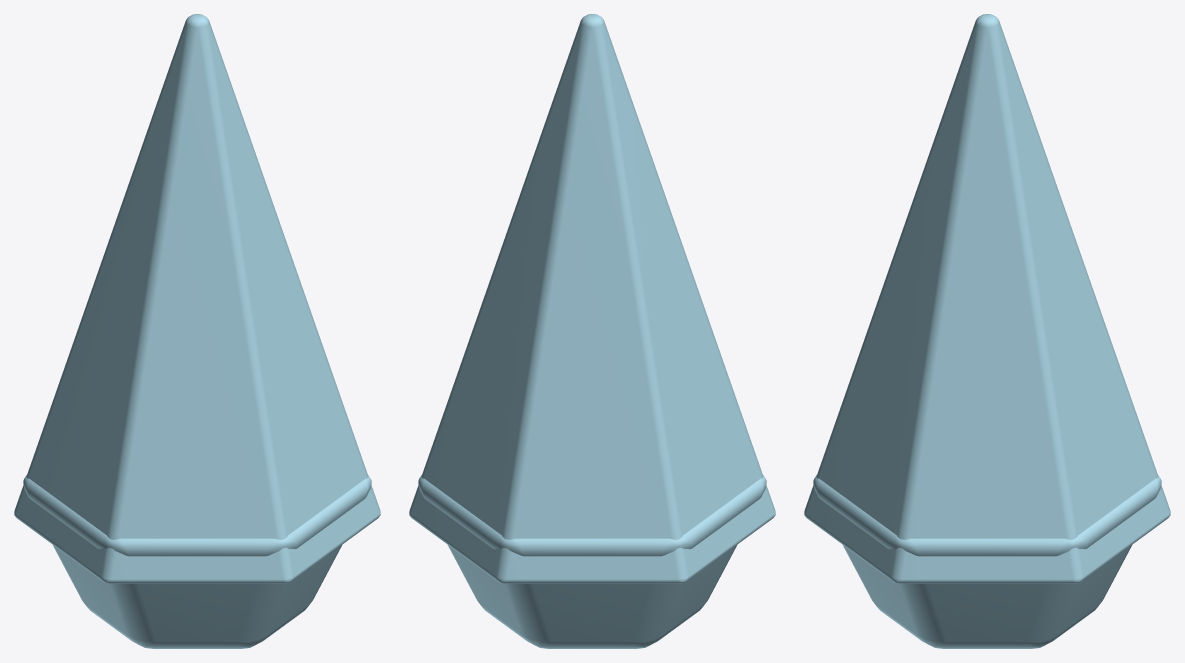
Rendered from crystal.glb.
The picture shows the model from 3 angles, left to right: view 1: azimuth 30°, elevation 25°; view 2: azimuth 150°, elevation 25°; view 3: azimuth 270°, elevation 25°; orthographic projection.
Parts seen in each view (by area): view 1: crystal; view 2: crystal; view 3: crystal.
Part boxes in pixels (<box>): crystal: <box>14,14,380,648</box>; crystal: <box>409,14,775,648</box>; crystal: <box>804,14,1170,648</box>.
Bounding box in the file's own units: 0.3938 × 0.81 × 0.45.
